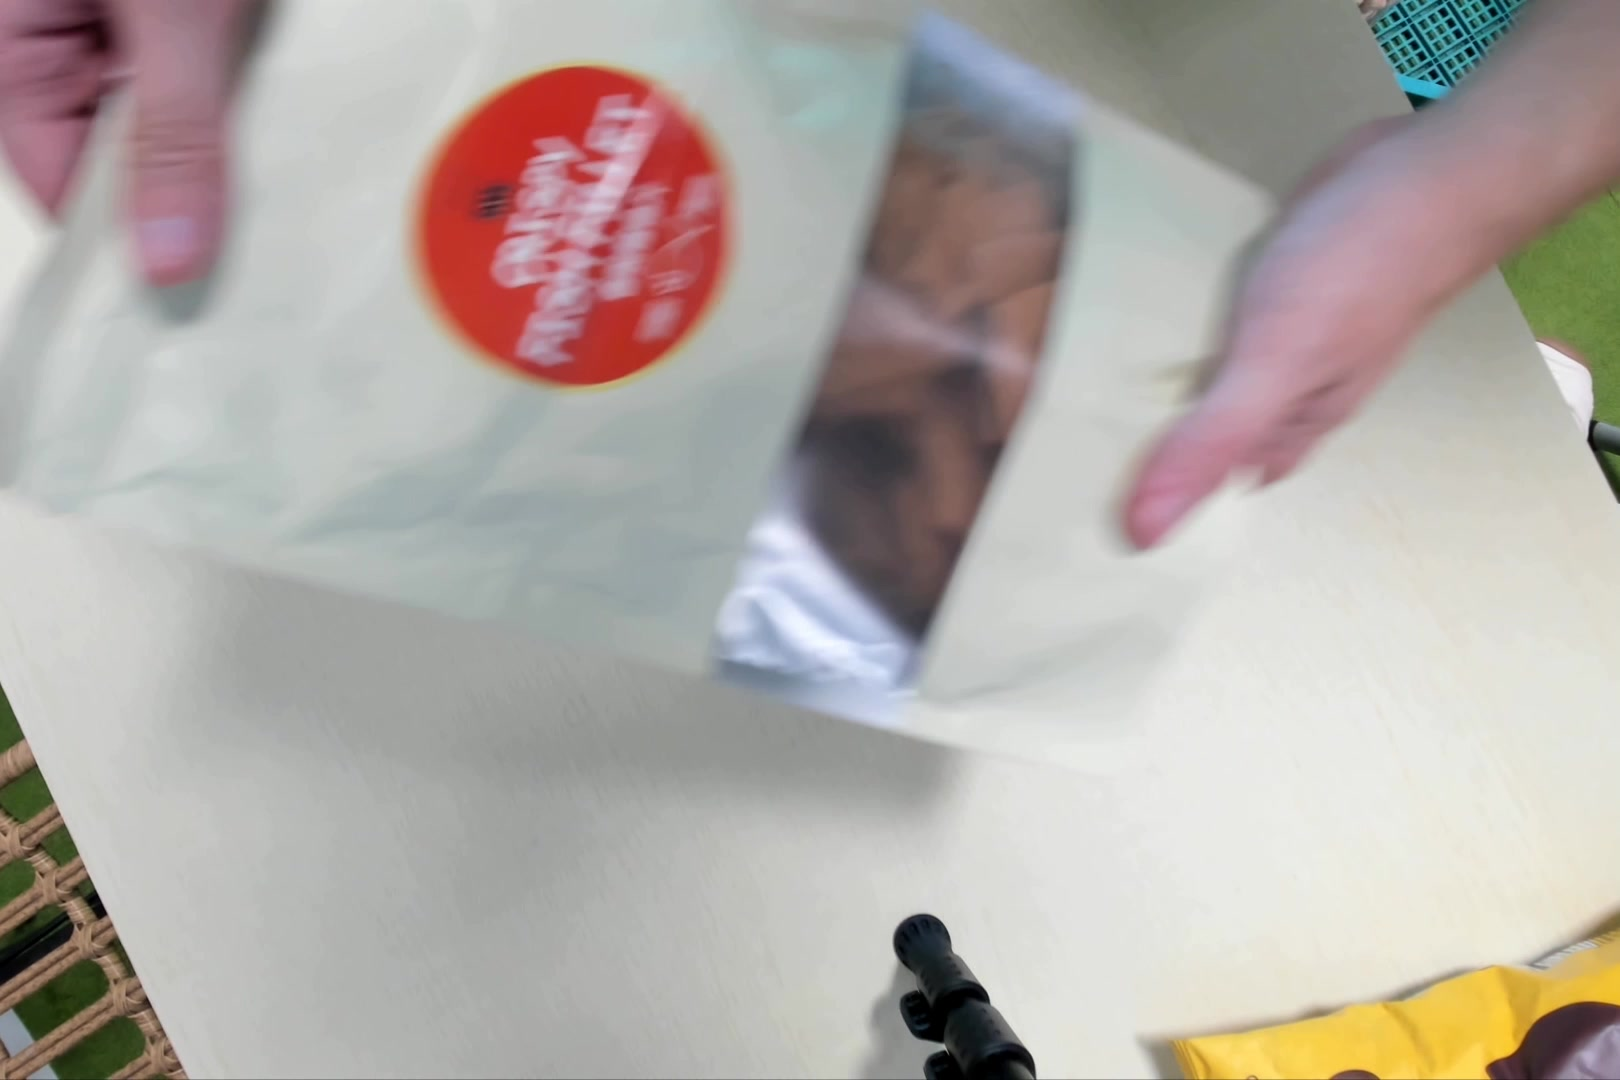PotatoChipsKeropok_100-199g_NonHalal_NonHealthy: (13, 2, 1286, 755)
